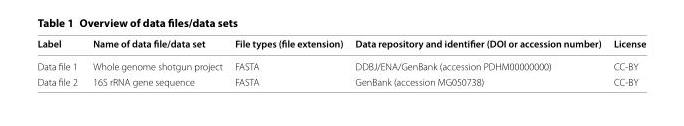table: (36, 36, 645, 87)
table column: (348, 36, 606, 87), (84, 36, 228, 87), (228, 36, 348, 87), (36, 36, 84, 87), (606, 36, 645, 87)
table column header: (36, 36, 645, 54)
table row: (36, 54, 645, 73), (36, 36, 645, 54), (36, 73, 645, 87)
